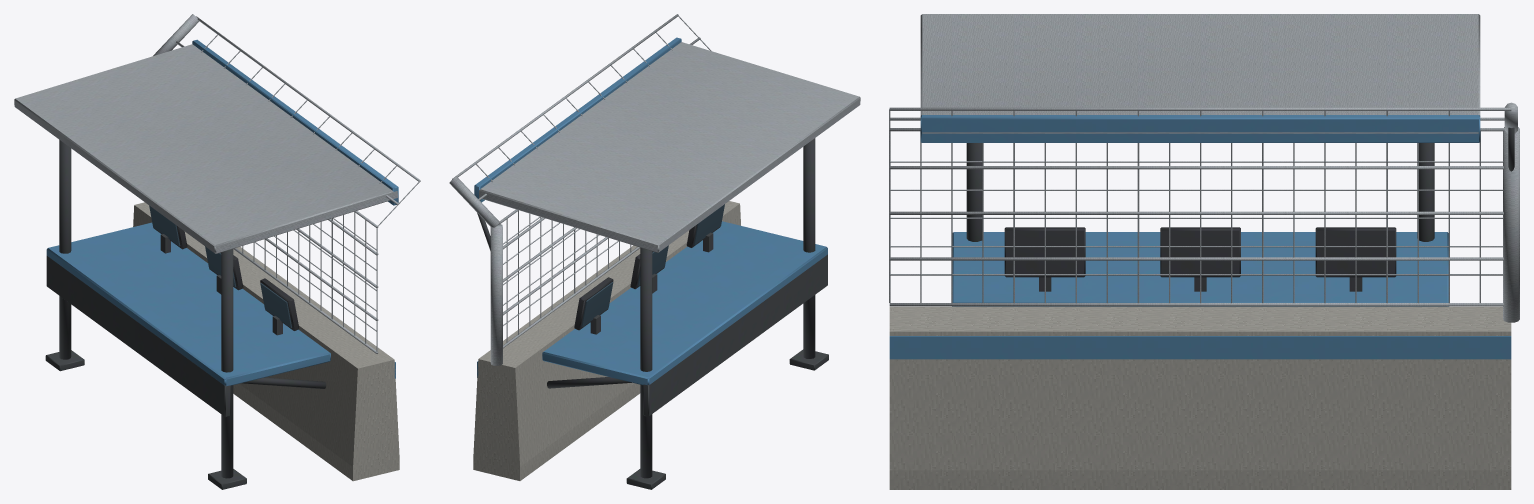
The model's file is pit-wall_high.glb.
3 renders of one model, left to right at view 1: azimuth 30°, elevation 25°; view 2: azimuth 150°, elevation 25°; view 3: azimuth 270°, elevation 25°, orthographic. The views are drawn at different scales.
Parts seen in each view (by area): view 1: galvanised, paint-band, concrete, dark-steel, glazing, rubber; view 2: galvanised, paint-band, concrete, dark-steel, glazing, rubber; view 3: concrete, galvanised, paint-band, rubber, dark-steel.
Boxes of the visible parts, x1,y1,x2,y2 form: galvanised: [14, 14, 420, 353]; paint-band: [46, 39, 398, 386]; concrete: [133, 202, 399, 481]; dark-steel: [45, 140, 326, 489]; glazing: [149, 205, 291, 328]; rubber: [153, 226, 299, 330]; galvanised: [449, 14, 860, 365]; paint-band: [474, 37, 827, 385]; concrete: [473, 201, 740, 480]; dark-steel: [477, 138, 828, 489]; glazing: [581, 204, 724, 327]; rubber: [574, 224, 720, 330]; concrete: [889, 306, 1511, 489]; galvanised: [889, 14, 1519, 322]; paint-band: [889, 115, 1511, 359]; rubber: [1004, 227, 1396, 277]; dark-steel: [966, 127, 1514, 291].
Size of the model in its own units: 2.03 by 2.84 by 4.06.
Materials: 6 (5 with a texture image).
